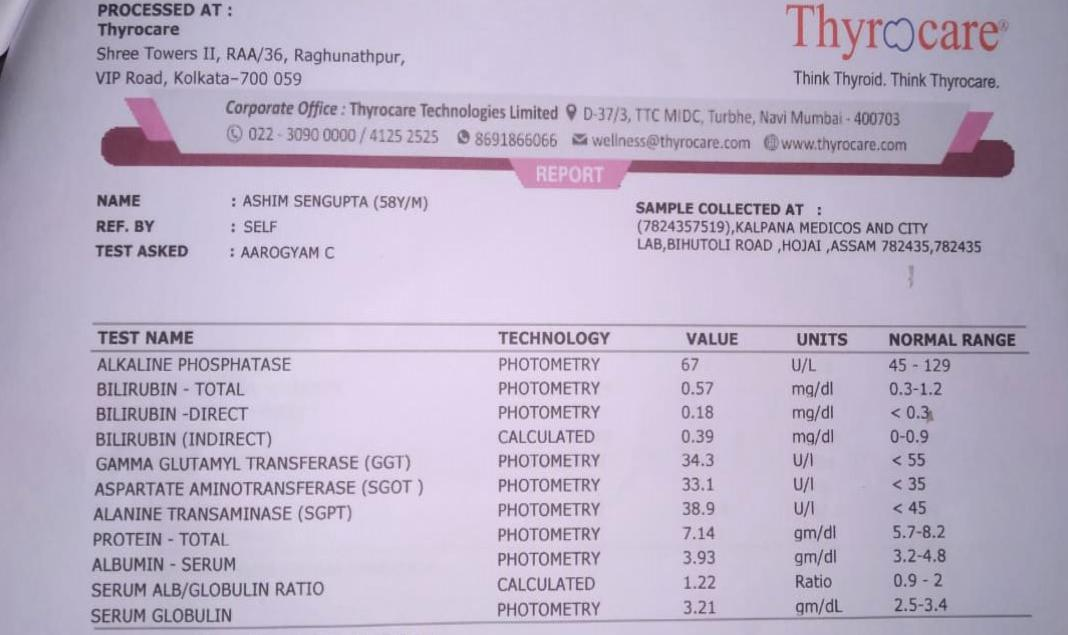Reference Range: (878, 350, 965, 620)
Test Name: (84, 350, 433, 631)
Units: (782, 350, 857, 620)
Value: (669, 349, 736, 622)
